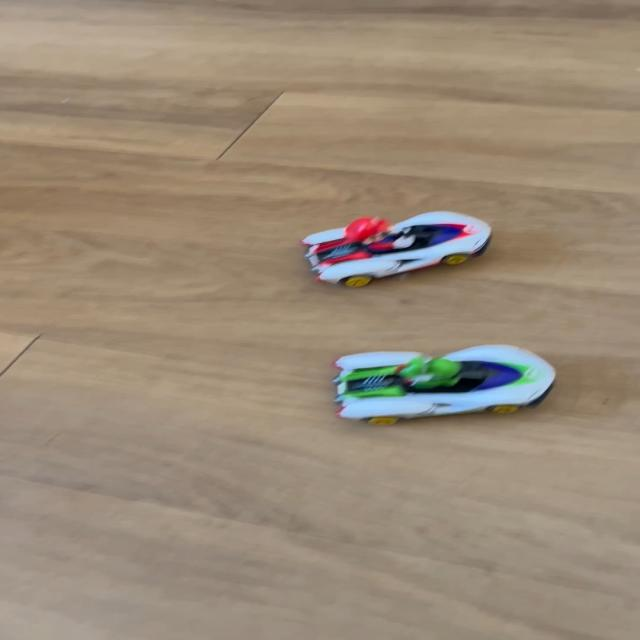mario: (284, 204, 508, 290)
yoshi: (316, 338, 573, 431)
